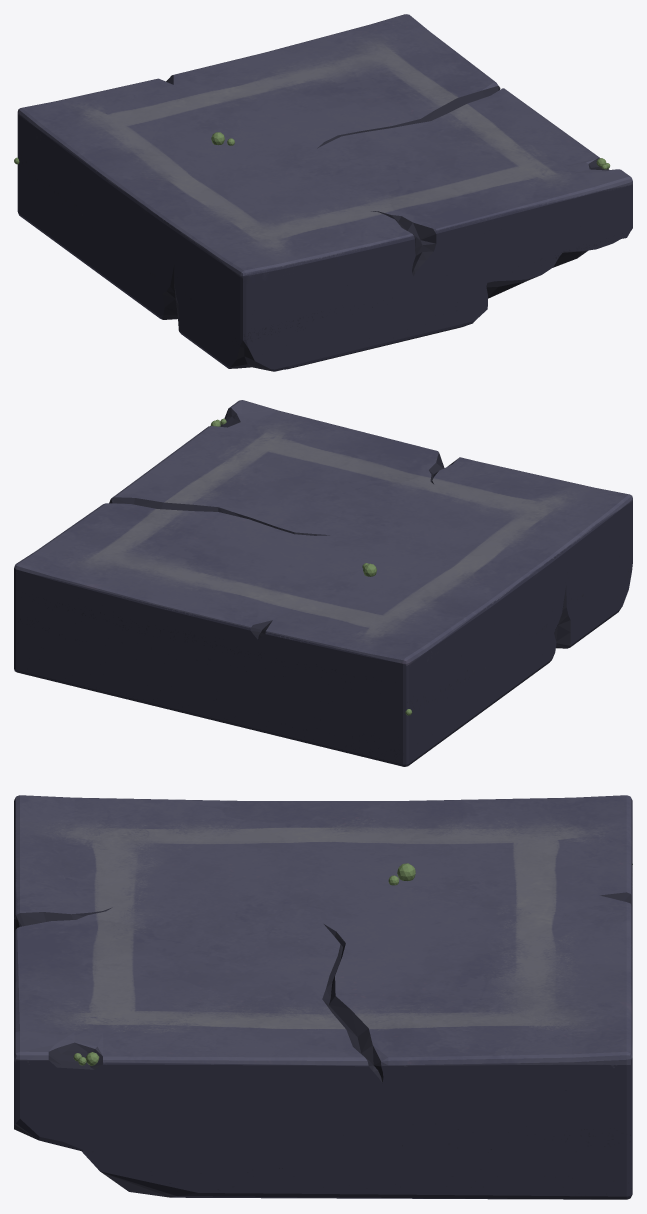
Rendered from 1Platform.fbx.
3 renders of one model, top to bottom at view 1: azimuth 30°, elevation 25°; view 2: azimuth 150°, elevation 25°; view 3: azimuth 270°, elevation 25°, orthographic. The views are drawn at different scales.
Parts seen in each view (by area): view 1: Icosphere.007; view 2: Icosphere.007; view 3: Icosphere.007.
Part boxes in pixels (x1,y1,x2,y2): Icosphere.007: [14, 14, 632, 371]; Icosphere.007: [14, 400, 632, 766]; Icosphere.007: [14, 795, 632, 1199].
Size of the model in its own units: 262 by 260 by 72.46.
Materials: 1 (1 with a texture image).
